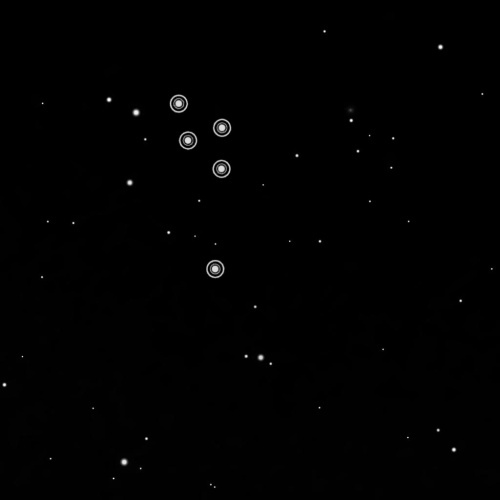delphinus: (164, 87, 234, 285)
